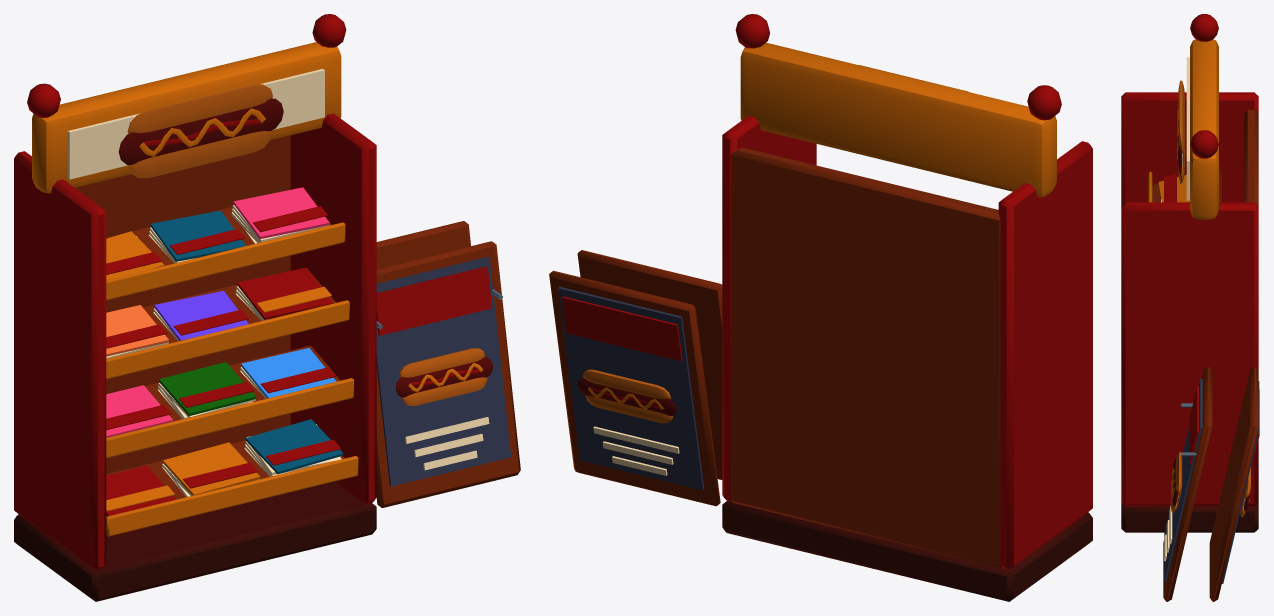
The model's file is FlyerStand.obj.
3 views of the same model, side by side, from view 1: azimuth 30°, elevation 25°; view 2: azimuth 150°, elevation 25°; view 3: azimuth 270°, elevation 25° (orthographic). The views are drawn at different scales.
Parts seen in each view (by area): view 1: FlyerStand; view 2: FlyerStand; view 3: FlyerStand.
Boxes of the visible parts, x1,y1,x2,y2 form: FlyerStand: (14,14,520,601); FlyerStand: (549,14,1092,601); FlyerStand: (1121,14,1259,601).
Bounding box in the file's own units: 6.24 × 6.15 × 1.91.
